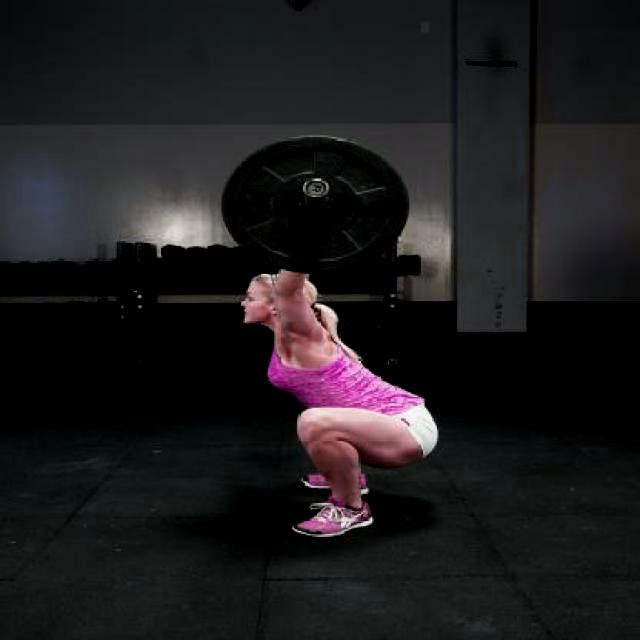barbell: (217, 131, 415, 280)
